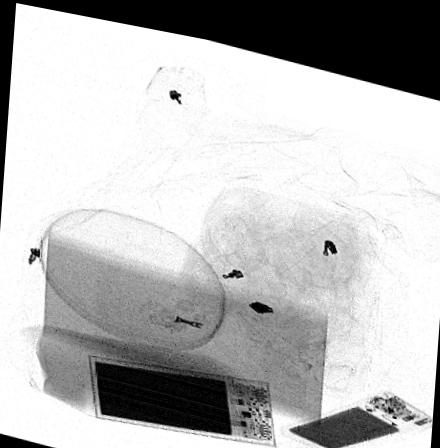Powerbank: (88, 349, 276, 436), (279, 372, 433, 441)
